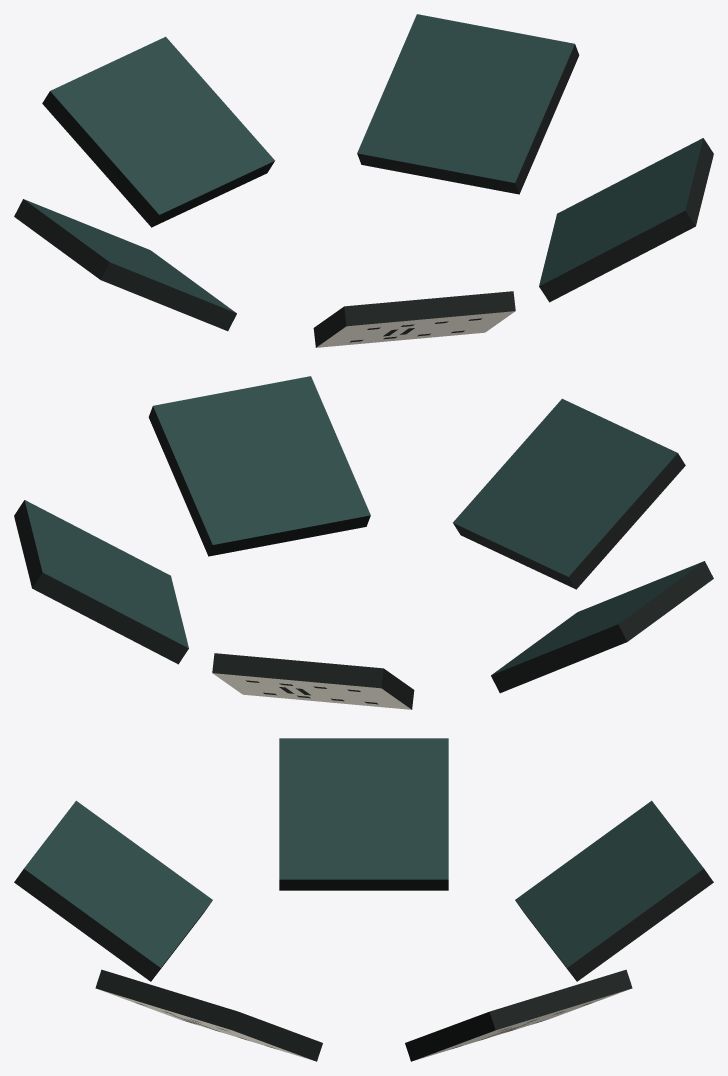
Rendered from shell_tally_c2.glb.
3 views of the same model, one above another, from view 1: azimuth 30°, elevation 25°; view 2: azimuth 150°, elevation 25°; view 3: azimuth 270°, elevation 25° (orthographic). The views are drawn at different scales.
Visible parts, largest first — view 1: Pod; view 2: Pod; view 3: Pod.
Boxes of the visible parts, left/top/right/bottom form: Pod: left=14, top=14, right=713, bottom=347; Pod: left=14, top=376, right=713, bottom=709; Pod: left=14, top=738, right=713, bottom=1061.
Bounding box in the file's own units: 1.18 × 0.1875 × 1.24.
